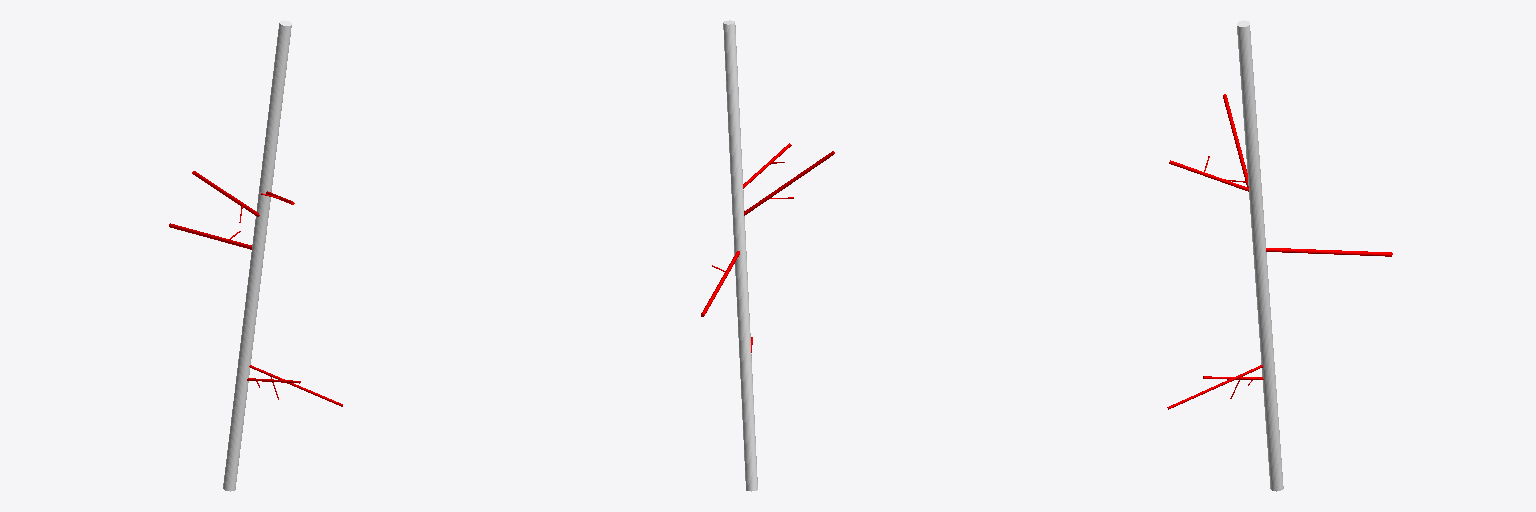
URDF robot description (tree_140.urdf):
<?xml version='1.0' encoding='UTF-8'?>
<robot name="tree_140.urdf">
  <link name="branch_0">
    <inertial>
      <origin xyz="0.0 0.0 0.0" rpy="0.0 -0.0 0.0"/>
      <mass value="0.1"/>
      <inertia ixx="0.001" ixy="0.0" ixz="0.0" iyy="0.001" iyz="0.0" izz="0.001"/>
    </inertial>
    <visual name="branch_0_visual">
      <geometry>
        <cylinder radius="0.10455575741860085" length="8.48040694516323"/>
      </geometry>
      <material name="branch_material"/>
      <origin xyz="0.3783931958717285 -0.26577119192112486 4.214915153565489" rpy="0.0 0.10926918617223678 -0.6123133166709532"/>
    </visual>
    <collision name="branch_0_collision">
      <geometry>
        <cylinder radius="0.10455575741860085" length="8.48040694516323"/>
      </geometry>
      <origin xyz="0.3783931958717285 -0.26577119192112486 4.214915153565489" rpy="0.0 0.10926918617223678 -0.6123133166709532"/>
    </collision>
  </link>
  <link name="branch_1">
    <inertial>
      <origin xyz="0.0 0.0 0.0" rpy="0.0 -0.0 0.0"/>
      <mass value="0.1"/>
      <inertia ixx="0.001" ixy="0.0" ixz="0.0" iyy="0.001" iyz="0.0" izz="0.001"/>
    </inertial>
    <visual name="branch_1_visual">
      <geometry>
        <cylinder radius="0.029170074637147974" length="1.438113583311839"/>
      </geometry>
      <material name="semantic_material"/>
      <origin xyz="0.0 0.0 0.0" rpy="0.0 -0.0 0.0"/>
    </visual>
    <collision name="branch_1_collision">
      <geometry>
        <cylinder radius="0.029170074637147974" length="1.438113583311839"/>
      </geometry>
      <origin xyz="0.0 0.0 0.0" rpy="0.0 -0.0 0.0"/>
    </collision>
  </link>
  <link name="branch_2">
    <inertial>
      <origin xyz="0.0 0.0 0.0" rpy="0.0 -0.0 0.0"/>
      <mass value="0.1"/>
      <inertia ixx="0.001" ixy="0.0" ixz="0.0" iyy="0.001" iyz="0.0" izz="0.001"/>
    </inertial>
    <visual name="branch_2_visual">
      <geometry>
        <cylinder radius="0.011331983738321854" length="0.3853248886456238"/>
      </geometry>
      <material name="semantic_material"/>
      <origin xyz="0.0 0.0 0.0" rpy="0.0 -0.0 0.0"/>
    </visual>
    <collision name="branch_2_collision">
      <geometry>
        <cylinder radius="0.011331983738321854" length="0.3853248886456238"/>
      </geometry>
      <origin xyz="0.0 0.0 0.0" rpy="0.0 -0.0 0.0"/>
    </collision>
  </link>
  <link name="branch_3">
    <inertial>
      <origin xyz="0.0 0.0 0.0" rpy="0.0 -0.0 0.0"/>
      <mass value="0.1"/>
      <inertia ixx="0.001" ixy="0.0" ixz="0.0" iyy="0.001" iyz="0.0" izz="0.001"/>
    </inertial>
    <visual name="branch_3_visual">
      <geometry>
        <cylinder radius="0.03426083043795269" length="2.1565594327010005"/>
      </geometry>
      <material name="semantic_material"/>
      <origin xyz="0.0 0.0 0.0" rpy="0.0 -0.0 0.0"/>
    </visual>
    <collision name="branch_3_collision">
      <geometry>
        <cylinder radius="0.03426083043795269" length="2.1565594327010005"/>
      </geometry>
      <origin xyz="0.0 0.0 0.0" rpy="0.0 -0.0 0.0"/>
    </collision>
  </link>
  <link name="branch_4">
    <inertial>
      <origin xyz="0.0 0.0 0.0" rpy="0.0 -0.0 0.0"/>
      <mass value="0.1"/>
      <inertia ixx="0.001" ixy="0.0" ixz="0.0" iyy="0.001" iyz="0.0" izz="0.001"/>
    </inertial>
    <visual name="branch_4_visual">
      <geometry>
        <cylinder radius="0.011979038378414015" length="0.2910731813649898"/>
      </geometry>
      <material name="semantic_material"/>
      <origin xyz="0.0 0.0 0.0" rpy="0.0 -0.0 0.0"/>
    </visual>
    <collision name="branch_4_collision">
      <geometry>
        <cylinder radius="0.011979038378414015" length="0.2910731813649898"/>
      </geometry>
      <origin xyz="0.0 0.0 0.0" rpy="0.0 -0.0 0.0"/>
    </collision>
  </link>
  <link name="branch_5">
    <inertial>
      <origin xyz="0.0 0.0 0.0" rpy="0.0 -0.0 0.0"/>
      <mass value="0.1"/>
      <inertia ixx="0.001" ixy="0.0" ixz="0.0" iyy="0.001" iyz="0.0" izz="0.001"/>
    </inertial>
    <visual name="branch_5_visual">
      <geometry>
        <cylinder radius="0.021668622409921196" length="1.173314073966786"/>
      </geometry>
      <material name="semantic_material"/>
      <origin xyz="0.0 0.0 0.0" rpy="0.0 -0.0 0.0"/>
    </visual>
    <collision name="branch_5_collision">
      <geometry>
        <cylinder radius="0.021668622409921196" length="1.173314073966786"/>
      </geometry>
      <origin xyz="0.0 0.0 0.0" rpy="0.0 -0.0 0.0"/>
    </collision>
  </link>
  <link name="branch_6">
    <inertial>
      <origin xyz="0.0 0.0 0.0" rpy="0.0 -0.0 0.0"/>
      <mass value="0.1"/>
      <inertia ixx="0.001" ixy="0.0" ixz="0.0" iyy="0.001" iyz="0.0" izz="0.001"/>
    </inertial>
    <visual name="branch_6_visual">
      <geometry>
        <cylinder radius="0.01" length="0.14482292950712805"/>
      </geometry>
      <material name="semantic_material"/>
      <origin xyz="0.0 0.0 0.0" rpy="0.0 -0.0 0.0"/>
    </visual>
    <collision name="branch_6_collision">
      <geometry>
        <cylinder radius="0.01" length="0.14482292950712805"/>
      </geometry>
      <origin xyz="0.0 0.0 0.0" rpy="0.0 -0.0 0.0"/>
    </collision>
  </link>
  <link name="branch_7">
    <inertial>
      <origin xyz="0.0 0.0 0.0" rpy="0.0 -0.0 0.0"/>
      <mass value="0.1"/>
      <inertia ixx="0.001" ixy="0.0" ixz="0.0" iyy="0.001" iyz="0.0" izz="0.001"/>
    </inertial>
    <visual name="branch_7_visual">
      <geometry>
        <cylinder radius="0.0221289663524116" length="1.8666852957140818"/>
      </geometry>
      <material name="semantic_material"/>
      <origin xyz="0.0 0.0 0.0" rpy="0.0 -0.0 0.0"/>
    </visual>
    <collision name="branch_7_collision">
      <geometry>
        <cylinder radius="0.0221289663524116" length="1.8666852957140818"/>
      </geometry>
      <origin xyz="0.0 0.0 0.0" rpy="0.0 -0.0 0.0"/>
    </collision>
  </link>
  <link name="branch_8">
    <inertial>
      <origin xyz="0.0 0.0 0.0" rpy="0.0 -0.0 0.0"/>
      <mass value="0.1"/>
      <inertia ixx="0.001" ixy="0.0" ixz="0.0" iyy="0.001" iyz="0.0" izz="0.001"/>
    </inertial>
    <visual name="branch_8_visual">
      <geometry>
        <cylinder radius="0.01" length="0.4262871527732596"/>
      </geometry>
      <material name="semantic_material"/>
      <origin xyz="0.0 0.0 0.0" rpy="0.0 -0.0 0.0"/>
    </visual>
    <collision name="branch_8_collision">
      <geometry>
        <cylinder radius="0.01" length="0.4262871527732596"/>
      </geometry>
      <origin xyz="0.0 0.0 0.0" rpy="0.0 -0.0 0.0"/>
    </collision>
  </link>
  <link name="branch_9">
    <inertial>
      <origin xyz="0.0 0.0 0.0" rpy="0.0 -0.0 0.0"/>
      <mass value="0.1"/>
      <inertia ixx="0.001" ixy="0.0" ixz="0.0" iyy="0.001" iyz="0.0" izz="0.001"/>
    </inertial>
    <visual name="branch_9_visual">
      <geometry>
        <cylinder radius="0.032226229269670024" length="2.1748124050297095"/>
      </geometry>
      <material name="semantic_material"/>
      <origin xyz="0.0 0.0 0.0" rpy="0.0 -0.0 0.0"/>
    </visual>
    <collision name="branch_9_collision">
      <geometry>
        <cylinder radius="0.032226229269670024" length="2.1748124050297095"/>
      </geometry>
      <origin xyz="0.0 0.0 0.0" rpy="0.0 -0.0 0.0"/>
    </collision>
  </link>
  <link name="branch_10">
    <inertial>
      <origin xyz="0.0 0.0 0.0" rpy="0.0 -0.0 0.0"/>
      <mass value="0.1"/>
      <inertia ixx="0.001" ixy="0.0" ixz="0.0" iyy="0.001" iyz="0.0" izz="0.001"/>
    </inertial>
    <visual name="branch_10_visual">
      <geometry>
        <cylinder radius="0.011022562669396553" length="0.5248729501990309"/>
      </geometry>
      <material name="semantic_material"/>
      <origin xyz="0.0 0.0 0.0" rpy="0.0 -0.0 0.0"/>
    </visual>
    <collision name="branch_10_collision">
      <geometry>
        <cylinder radius="0.011022562669396553" length="0.5248729501990309"/>
      </geometry>
      <origin xyz="0.0 0.0 0.0" rpy="0.0 -0.0 0.0"/>
    </collision>
  </link>
  <joint name="joint_0_1" type="fixed">
    <parent link="branch_0"/>
    <child link="branch_1"/>
    <axis xyz="1. 0. 0."/>
    <origin xyz="0.3522433198926299 -1.0159943079115397 5.575112163891921" rpy="-0.34222729327905177 1.2656051598262061 -2.117875567751119"/>
  </joint>
  <joint name="joint_0_3" type="fixed">
    <parent link="branch_0"/>
    <child link="branch_3"/>
    <axis xyz="1. 0. 0."/>
    <origin xyz="0.16042732297837245 0.7696179339219175 4.182313216704465" rpy="2.6513031527185964 1.4111947414135506 -1.850617442124332"/>
  </joint>
  <joint name="joint_0_5" type="fixed">
    <parent link="branch_0"/>
    <child link="branch_5"/>
    <axis xyz="1. 0. 0."/>
    <origin xyz="0.4233533226448528 -0.643525672791035 2.108890055764323" rpy="-0.25577996368612016 1.3506410363040542 -1.3908547489501855"/>
  </joint>
  <joint name="joint_0_7" type="fixed">
    <parent link="branch_0"/>
    <child link="branch_7"/>
    <axis xyz="1. 0. 0."/>
    <origin xyz="0.675583600060341 -0.9294574852599001 2.0923179790030546" rpy="-2.9057152098165817 1.3829219324630682 2.3515576308197508"/>
  </joint>
  <joint name="joint_0_9" type="fixed">
    <parent link="branch_0"/>
    <child link="branch_9"/>
    <axis xyz="1. 0. 0."/>
    <origin xyz="-0.35286620926243184 -0.5682465394891009 5.6042340654322365" rpy="-0.12833840366468627 0.8679400837072717 -2.9937983471466505"/>
  </joint>
  <joint name="joint_1_2" type="fixed">
    <parent link="branch_0"/>
    <child link="branch_2"/>
    <axis xyz="1. 0. 0."/>
    <origin xyz="0.15141677957994 -1.1108259977939496 5.68589637539136" rpy="-1.1851338027822726 0.26234377930144487 1.4458001609915216"/>
  </joint>
  <joint name="joint_3_4" type="fixed">
    <parent link="branch_0"/>
    <child link="branch_4"/>
    <axis xyz="1. 0. 0."/>
    <origin xyz="0.36436933896581103 0.48403005058678167 4.273725876818513" rpy="-1.246638393234739 -0.12243765913010918 -1.4103698086940724"/>
  </joint>
  <joint name="joint_5_6" type="fixed">
    <parent link="branch_0"/>
    <child link="branch_6"/>
    <axis xyz="1. 0. 0."/>
    <origin xyz="0.3054028598482462 -0.41253261450181283 1.988463520772492" rpy="-2.9807819452610893 0.7115447598137284 2.0916830571639955"/>
  </joint>
  <joint name="joint_7_8" type="fixed">
    <parent link="branch_0"/>
    <child link="branch_8"/>
    <axis xyz="1. 0. 0."/>
    <origin xyz="0.48145620663561434 -0.6444860460947177 1.978102211443378" rpy="-3.0210089057537473 0.41336902254574065 2.180719283751345"/>
  </joint>
  <joint name="joint_9_10" type="fixed">
    <parent link="branch_0"/>
    <child link="branch_10"/>
    <axis xyz="1. 0. 0."/>
    <origin xyz="-0.16497550591686166 -0.6732757315034967 5.266011016183818" rpy="1.8867994085211768 0.9800133436246559 -0.3320320958779055"/>
  </joint>
  <material name="branch_material">
    <color rgba="1. 1. 1. 1."/>
  </material>
  <material name="semantic_material">
    <color rgba="1. 0. 0. 1."/>
  </material>
</robot>

--- What the picture shows (computed from the rendered views, not written in the file) ---
Views: 3 orthographic renders of the robot side by side, from view 1: azimuth 30°, elevation 25°; view 2: azimuth 150°, elevation 25°; view 3: azimuth 270°, elevation 25°.
Robot: tree_140.urdf — 11 links, 10 joints (10 fixed); root link branch_0; default pose: every joint at zero.
Links seen in each view (by area): view 1: branch_0; view 2: branch_0; view 3: branch_0, branch_3.
Link boxes in pixels (<box>): branch_0: <box>223,20,291,491</box>; branch_0: <box>723,20,757,491</box>; branch_0: <box>1237,20,1283,491</box>; branch_3: <box>1266,248,1392,256</box>.
Bounding box of the posed robot: 2.34 × 3.55 × 8.45 m (x, y, z).
Geometry: primitives only (box / cylinder / sphere), no mesh files.
